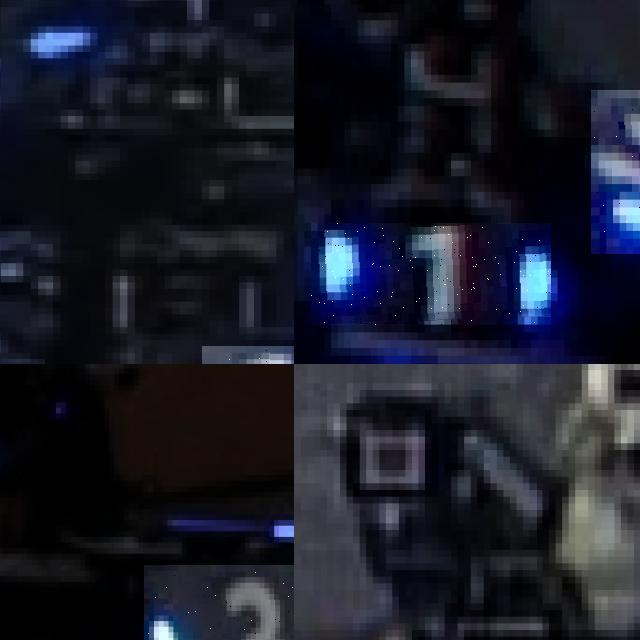B1: (311, 223, 551, 325), (591, 90, 640, 254)
B3: (143, 565, 294, 640)
